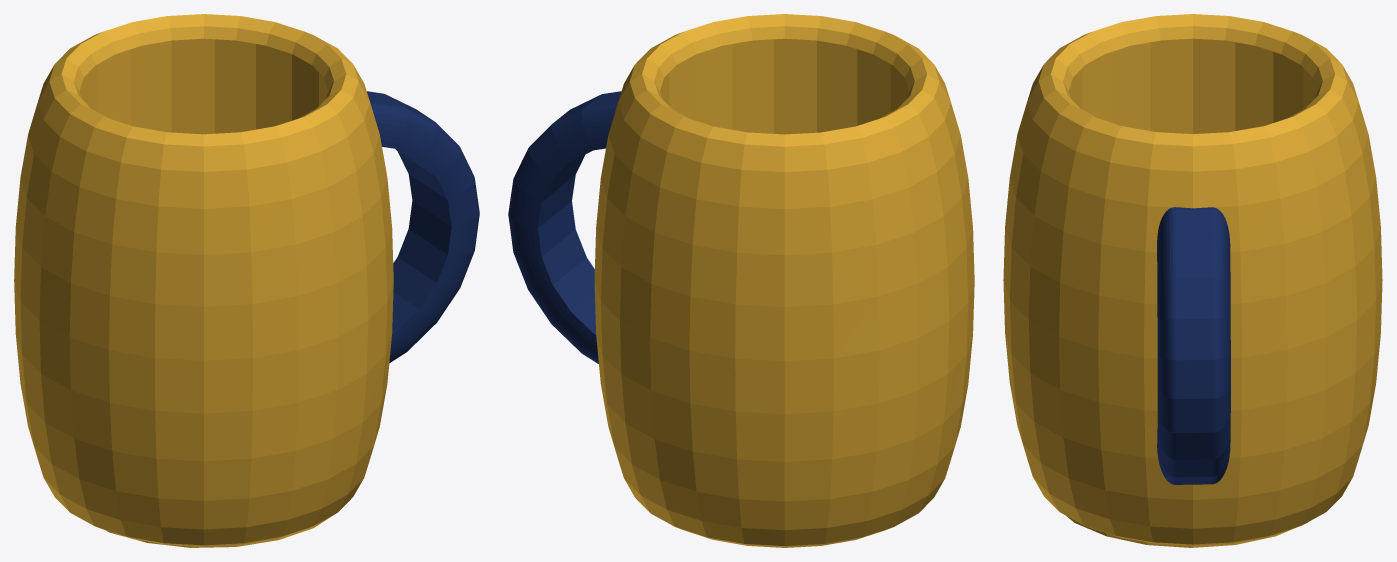
File: cup.obj
3 views of the same model, side by side, from view 1: azimuth 30°, elevation 25°; view 2: azimuth 150°, elevation 25°; view 3: azimuth 270°, elevation 25° (orthographic).
Parts seen in each view (by area): view 1: group_0_14789940, group_0_1650274; view 2: group_0_14789940, group_0_1650274; view 3: group_0_14789940, group_0_1650274.
Part boxes in pixels (left/top/right/bottom): group_0_14789940: left=14, top=14, right=393, bottom=547; group_0_1650274: left=367, top=91, right=479, bottom=363; group_0_14789940: left=594, top=14, right=974, bottom=547; group_0_1650274: left=508, top=91, right=621, bottom=363; group_0_14789940: left=1003, top=14, right=1382, bottom=547; group_0_1650274: left=1157, top=207, right=1230, bottom=484.
Size of the model in its own units: 26.2 by 24 by 20.
